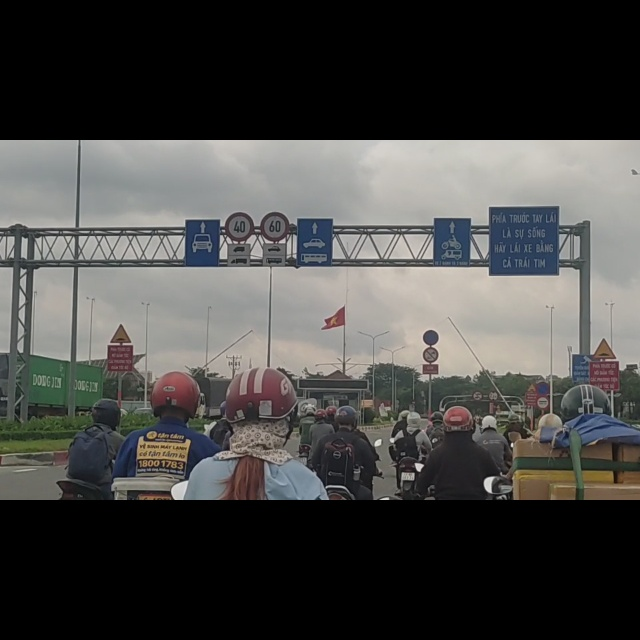bien_chi_dan: (224, 129, 254, 180), (260, 128, 289, 179), (572, 380, 592, 433), (593, 353, 616, 390), (110, 325, 131, 361), (423, 338, 439, 365), (423, 369, 439, 396), (537, 429, 550, 455), (536, 455, 549, 480), (525, 431, 536, 450), (487, 446, 499, 463), (473, 446, 483, 463)
